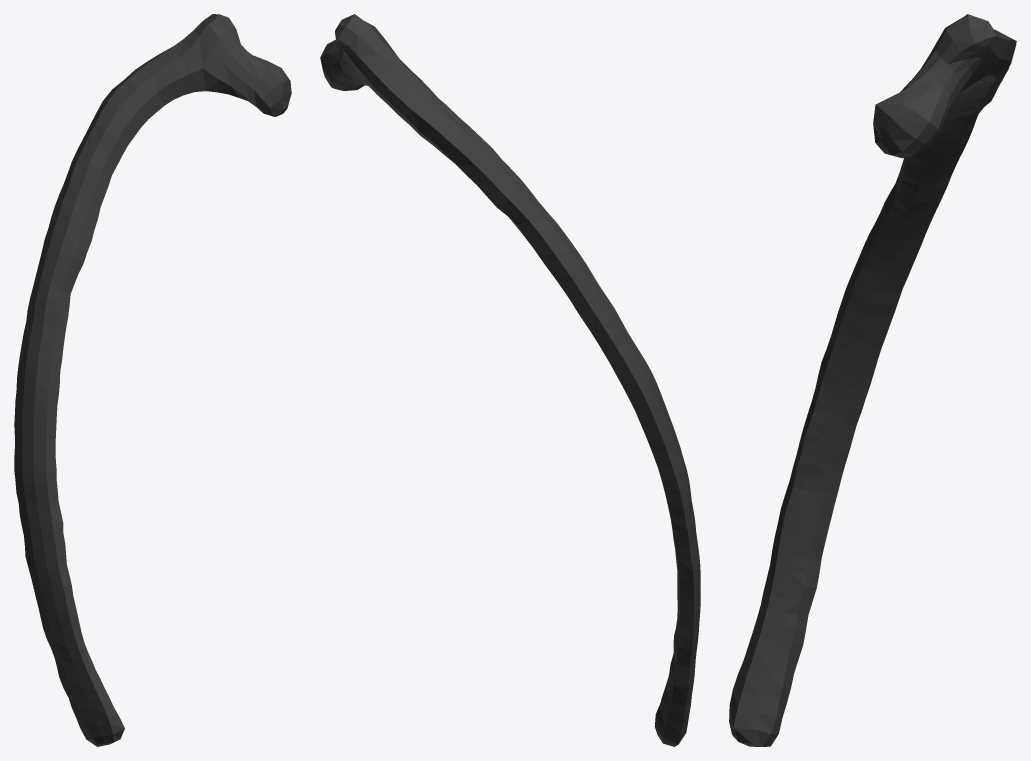
Rendered from Rib_4_R.glb.
The picture shows the model from 3 angles, left to right: view 1: azimuth 30°, elevation 25°; view 2: azimuth 150°, elevation 25°; view 3: azimuth 270°, elevation 25°; orthographic projection. The views are drawn at different scales.
Parts seen in each view (by area): view 1: Rib_4_R; view 2: Rib_4_R; view 3: Rib_4_R.
Part boxes in pixels (box(x1,y1,x2,y2)): Rib_4_R: box(14, 14, 291, 746); Rib_4_R: box(320, 14, 700, 746); Rib_4_R: box(729, 14, 1016, 746).
Size of the model in its own units: 3.64 by 7.58 by 2.29.
Materials: 1 (1 with a texture image).
